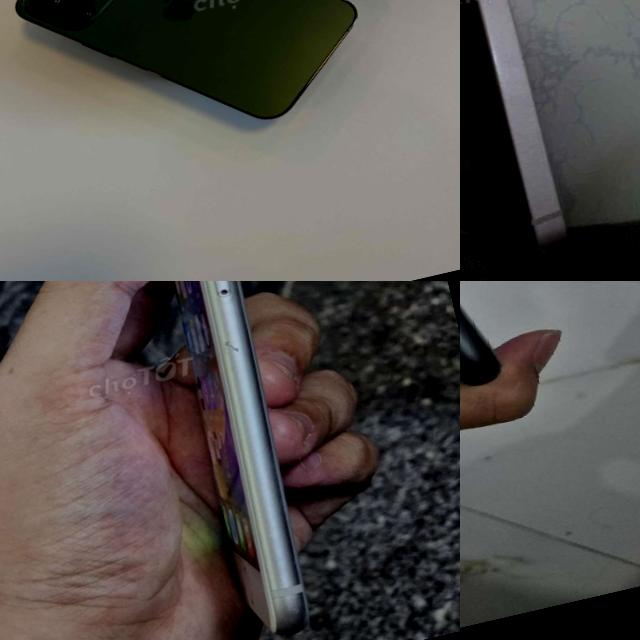gen_12_13: (0, 0, 380, 175), (460, 0, 625, 281)
gen_7_8: (173, 281, 306, 632)
